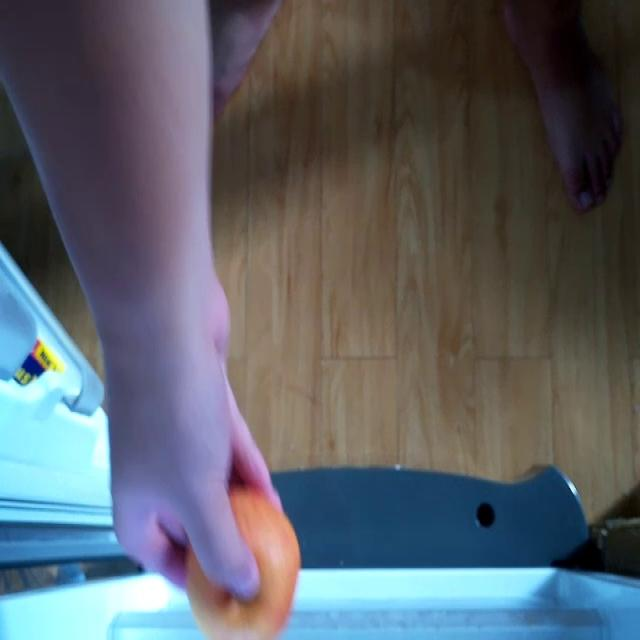apple: (185, 498, 296, 640)
